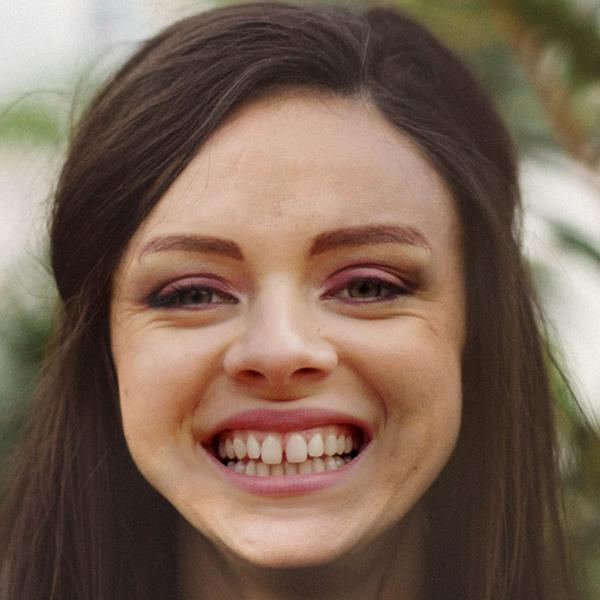Eyes: (311, 255, 431, 321), (134, 260, 251, 325)
